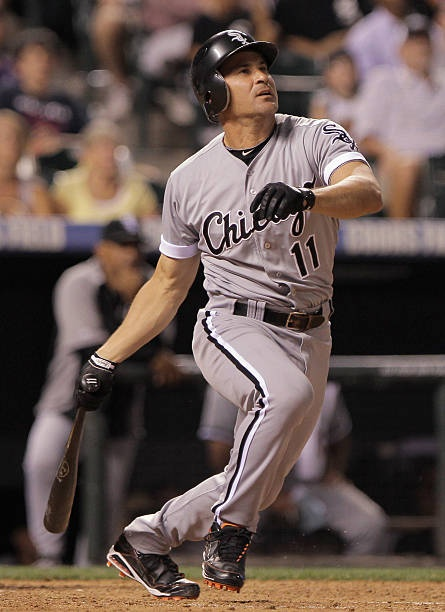bita: (38, 378, 104, 535)
